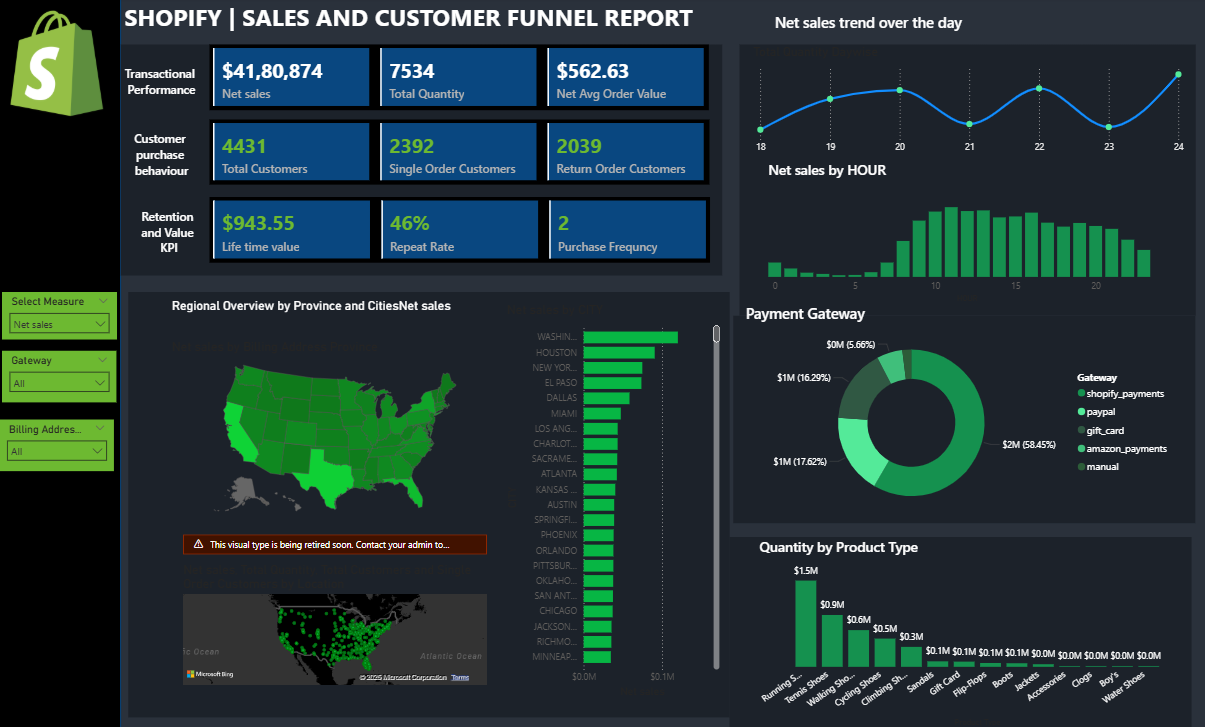

This screenshot's page, from the dashboard's own definition file:
{"tool":"powerbi","page":{"name":"Page 1","canvas":[1650,1000],"ordinal":0},"visuals":[{"type":"shape","box":[1004.3,434.3,630,282.9],"z":0},{"type":"shape","box":[998,736,630,264],"z":1000},{"type":"shape","box":[0,0,169.2,999],"z":2000},{"type":"textbox","box":[169.2,0,801.6,65.1],"z":3000},{"type":"shape","box":[169,65,820,315],"z":4000},{"type":"cardVisual","fields":{"Data":["shopify_sales.Net sales","shopify_sales.Total Quantity","shopify_sales.Net Avg Order Value"]},"box":[290.1,65.1,680.7,89.3],"z":5000},{"type":"card","fields":{"Values":["shopify_sales.TRANSACTIONAL PERF"]},"box":[168.8,75,111.2,78.8],"z":6000},{"type":"cardVisual","fields":{"Data":["shopify_sales.Total Customers","shopify_sales.Single Order Customers","shopify_sales.Return Order Customers"]},"box":[290,167.5,681.2,88.8],"z":7000},{"type":"card","fields":{"Values":["shopify_sales.Customer perchase behaviour"]},"box":[169.2,167.4,111.6,89.3],"z":8000},{"type":"cardVisual","fields":{"Data":["shopify_sales.Life time value","shopify_sales.Repeat Rate","shopify_sales.Purchase Frequncy"]},"box":[290.1,273.4,682.6,89.3],"z":9000},{"type":"card","fields":{"Values":["shopify_sales.Retention and Value KPI"]},"box":[178.5,273.4,111.6,89.3],"z":10000},{"type":"shape","box":[178.5,401.7,820.2,580.3],"z":11000},{"type":"shapeMap","fields":{"Value":["shopify_sales.Net sales"],"Category":["shopify_sales.Billing Address Province"]},"box":[233.8,467.5,455,250],"z":12000},{"type":"slicer","fields":{"Values":["Select Measure.Select Measure"]},"box":[6.8,402.2,156.8,64.8],"z":13000},{"type":"map","fields":{"Category":["shopify_sales.Location"]},"box":[248.6,732.9,424.3,210],"z":14000},{"type":"shape","box":[1012.3,64.8,622,369.8],"z":15000},{"type":"stackedAreaChart","title":"Total Quantity Daywise","fields":{"Y":["shopify_sales.Net sales"],"Category":["shopify_sales.Invoice Date.Variation.Date Hierarchy.Day"]},"box":[1025.7,64.3,600,158.6],"z":16000},{"type":"columnChart","fields":{"Y":["shopify_sales.Net sales"],"Category":["shopify_sales.HOUR"]},"box":[1046.7,223.3,553.3,198.3],"z":17000},{"type":"donutChart","title":"Payment Gateway","fields":{"Y":["shopify_sales.Net sales"],"Category":["shopify_sales.Gateway"]},"box":[1016,418,594,300],"z":18000},{"type":"columnChart","title":"Quantity by Product Type","fields":{"Y":["shopify_sales.Net sales"],"Category":["shopify_sales.Product Type"]},"box":[1034,736,570,264],"z":19000},{"type":"image","box":[0,13.8,162.9,153.7],"z":20000},{"type":"card","fields":{"Values":["shopify_sales.Customer perchase behaviour"]},"box":[234.3,410,464.3,24.3],"z":21000},{"type":"card","fields":{"Values":["Select Measure.Title"]},"box":[1004,6,374,58],"z":22000},{"type":"slicer","fields":{"Values":["shopify_sales.Gateway"]},"box":[6,482,156,70],"z":23000},{"type":"clusteredBarChart","fields":{"Y":["shopify_sales.Net sales"],"Category":["shopify_sales.CITY"]},"box":[690,416,300,544],"z":24000},{"type":"slicer","fields":{"Values":["shopify_sales.Billing Address Province"]},"box":[4,576,156,70],"z":25000}]}

Visuals, with their boxes on the page's 1650x1000 design canvas (x1, y1, x2, y2). These are canvas units, not pixel positions in the 1205x727 screenshot, which may show the page scaled, cropped or inside an application window:
shape: bbox=[1004, 434, 1634, 717]
shape: bbox=[998, 736, 1628, 1000]
shape: bbox=[0, 0, 169, 999]
textbox: bbox=[169, 0, 971, 65]
shape: bbox=[169, 65, 989, 380]
cardVisual - shopify_sales.Net sales x shopify_sales.Total Quantity: bbox=[290, 65, 971, 154]
card - shopify_sales.TRANSACTIONAL PERF: bbox=[169, 75, 280, 154]
cardVisual - shopify_sales.Total Customers x shopify_sales.Single Order Customers: bbox=[290, 168, 971, 256]
card - shopify_sales.Customer perchase behaviour: bbox=[169, 167, 281, 257]
cardVisual - shopify_sales.Life time value x shopify_sales.Repeat Rate: bbox=[290, 273, 973, 363]
card - shopify_sales.Retention and Value KPI: bbox=[178, 273, 290, 363]
shape: bbox=[178, 402, 999, 982]
shapeMap - shopify_sales.Net sales x shopify_sales.Billing Address Province: bbox=[234, 468, 689, 718]
slicer - Select Measure.Select Measure: bbox=[7, 402, 164, 467]
map - shopify_sales.Location: bbox=[249, 733, 673, 943]
shape: bbox=[1012, 65, 1634, 435]
"Total Quantity Daywise" stackedAreaChart: bbox=[1026, 64, 1626, 223]
columnChart - shopify_sales.Net sales x shopify_sales.HOUR: bbox=[1047, 223, 1600, 422]
"Payment Gateway" donutChart: bbox=[1016, 418, 1610, 718]
"Quantity by Product Type" columnChart: bbox=[1034, 736, 1604, 1000]
image: bbox=[0, 14, 163, 168]
card - shopify_sales.Customer perchase behaviour: bbox=[234, 410, 699, 434]
card - Select Measure.Title: bbox=[1004, 6, 1378, 64]
slicer - shopify_sales.Gateway: bbox=[6, 482, 162, 552]
clusteredBarChart - shopify_sales.Net sales x shopify_sales.CITY: bbox=[690, 416, 990, 960]
slicer - shopify_sales.Billing Address Province: bbox=[4, 576, 160, 646]
